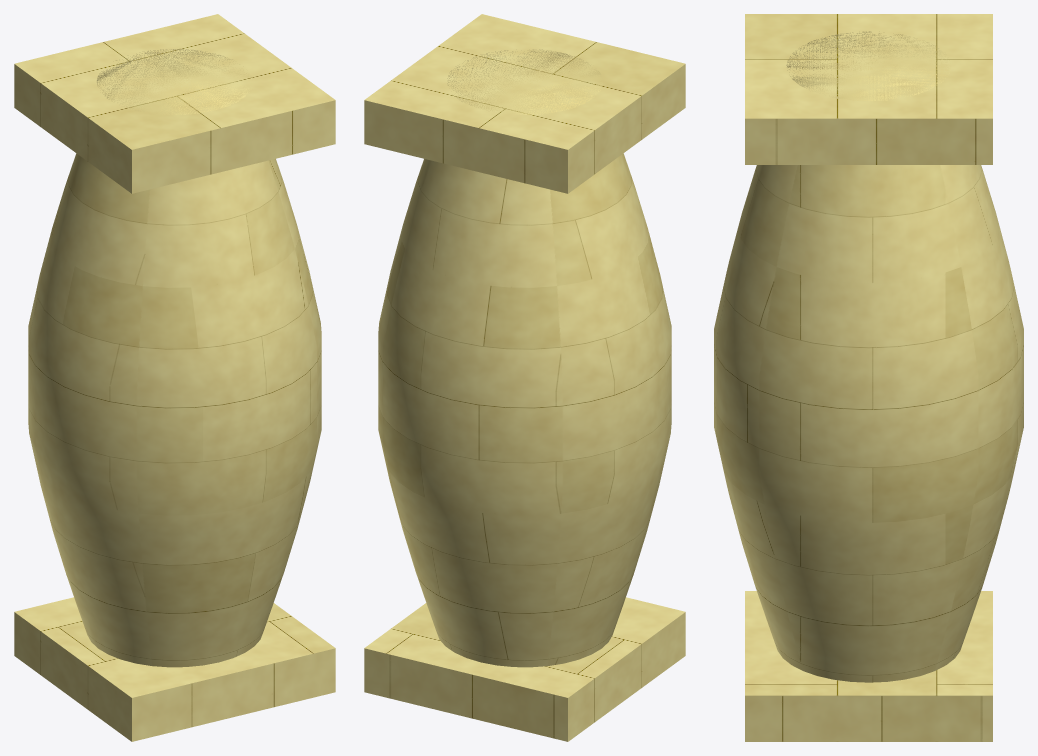
Rendered from bricked_round_pillar.fbx.
3 renders of one model, left to right at view 1: azimuth 30°, elevation 25°; view 2: azimuth 150°, elevation 25°; view 3: azimuth 270°, elevation 25°, orthographic. The views are drawn at different scales.
Visible parts, largest first — view 1: bricked_round_pilar; view 2: bricked_round_pilar; view 3: bricked_round_pilar.
Part boxes in pixels (x1,y1,x2,y2): bricked_round_pilar: (14,14,335,741); bricked_round_pilar: (364,14,685,741); bricked_round_pilar: (714,14,1023,741).
Bounding box in the file's own units: 180 × 400 × 180.
Materials: 2 (2 with a texture image).
